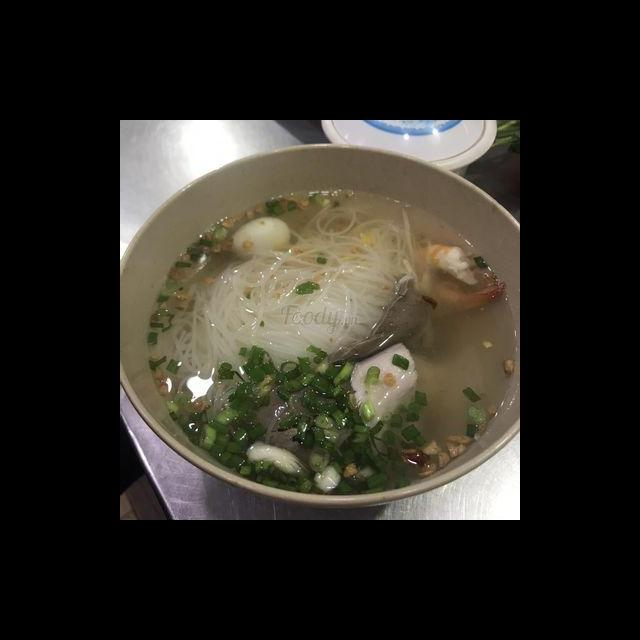banh hu tieu: (153, 197, 420, 384)
gan: (325, 275, 433, 370), (246, 370, 344, 454)
hu tieu: (123, 165, 520, 517), (152, 275, 245, 431)
thit heo: (345, 339, 427, 460)
tom: (414, 240, 512, 317)
trung: (224, 211, 294, 265)
